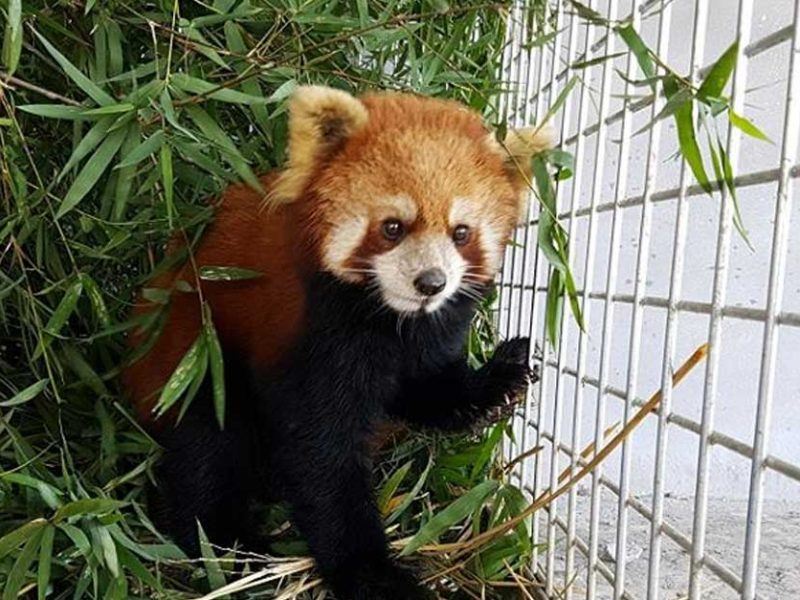red_panda: (133, 87, 537, 597)
